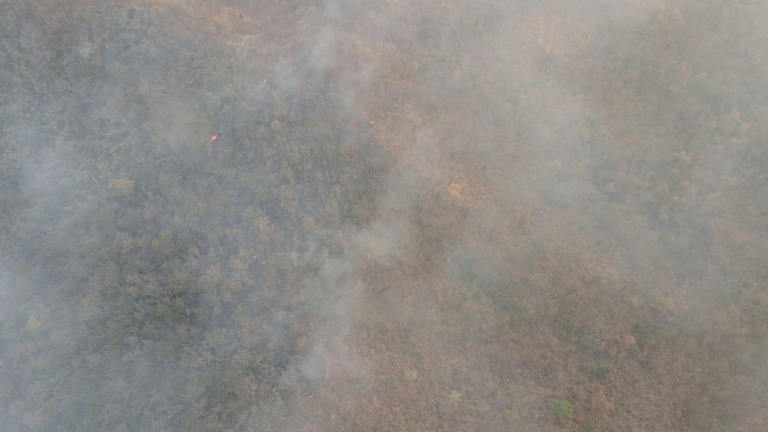fire: (201, 118, 227, 154)
smoke: (1, 1, 768, 431)
